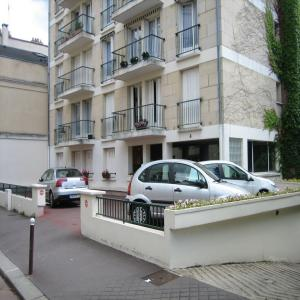Vehicle-registration-plate: (71, 194, 81, 198)
